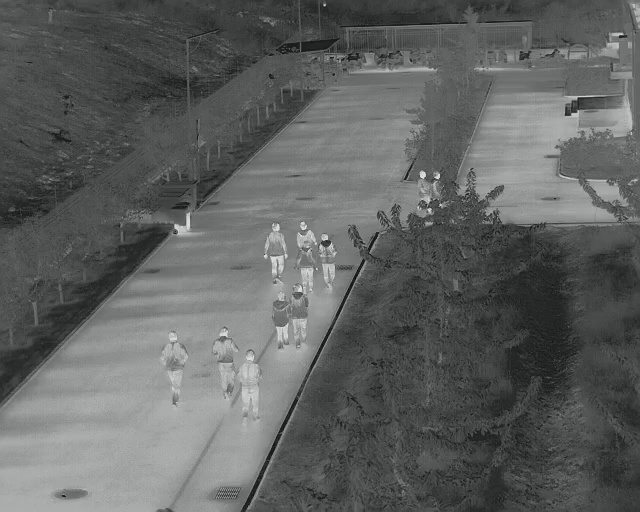person: (211, 326, 239, 401), (160, 330, 188, 404), (238, 349, 263, 424), (262, 223, 287, 283), (290, 282, 309, 349), (294, 240, 317, 293), (316, 232, 336, 290), (272, 289, 291, 348), (417, 169, 432, 211), (295, 221, 317, 247), (432, 170, 443, 201)
